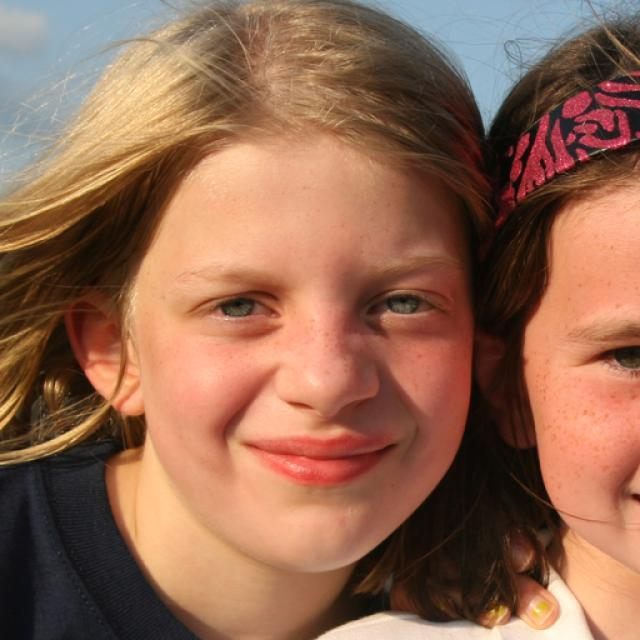happy: (130, 119, 477, 572), (531, 186, 640, 576)
